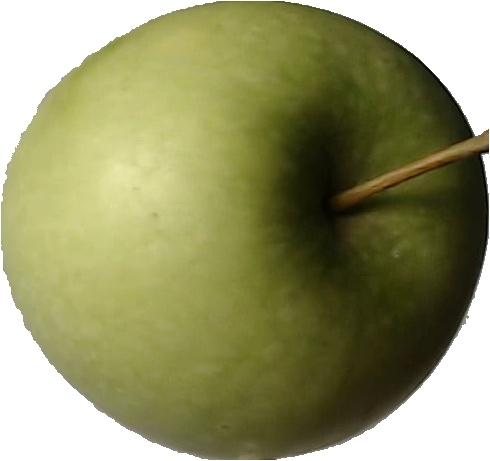Apple Unripe: (0, 3, 490, 461)
